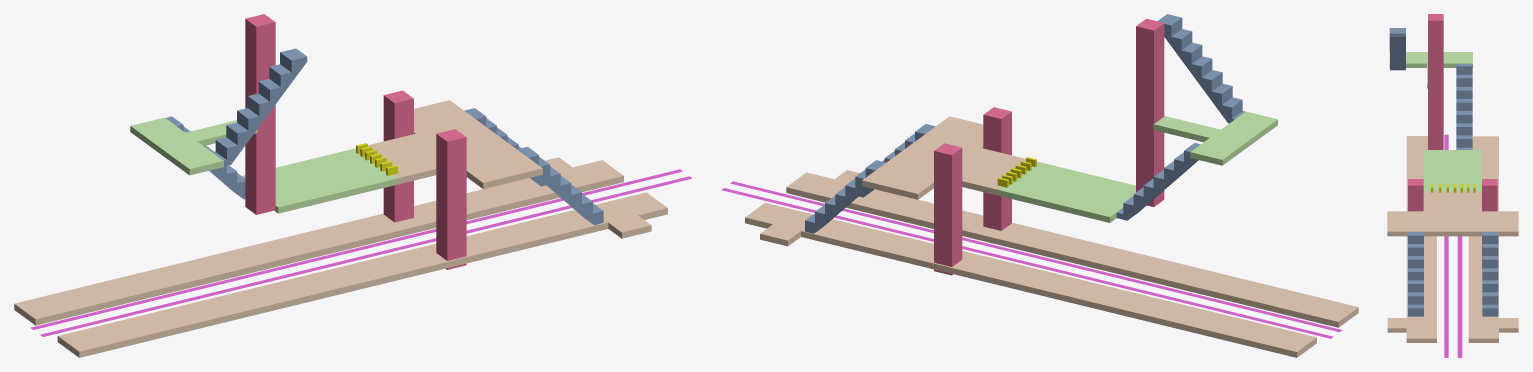
File: pinar-rey.glb
3 views of the same model, side by side, from view 1: azimuth 30°, elevation 25°; view 2: azimuth 150°, elevation 25°; view 3: azimuth 270°, elevation 25° (orthographic). The views are drawn at different scales.
Parts seen in each view (by area): view 1: suelo.001, suelo.003, suelo-dentro, ascensor derecho.002, suelo, ascensor derecho.001, Cube.010, suelo.002, ascensor derecho, Plane.002, Plane.001, Cube.008 (+3 smaller); view 2: suelo.003, suelo.001, suelo-dentro, suelo, ascensor derecho.002, ascensor derecho, Cube.010, suelo.002, ascensor derecho.001, Plane.001, Plane.002, Cube.007 (+2 smaller); view 3: suelo-dentro, suelo.003, suelo.001, suelo, ascensor derecho.002, Cube.007, Cube.009, Cube.008, suelo.002, Plane.002, Cube.010, Plane.001 (+2 smaller).
Part boxes in pixels (x1,y1,x2,y2): suelo.001: (57, 192, 667, 357); suelo.003: (14, 157, 623, 325); suelo-dentro: (368, 100, 542, 188); ascensor derecho.002: (245, 14, 275, 214); suelo: (242, 148, 397, 213); ascensor derecho.001: (436, 129, 466, 269); Cube.010: (212, 48, 307, 166); suelo.002: (130, 117, 223, 175); ascensor derecho: (383, 90, 413, 222); Plane.002: (30, 169, 682, 329); Plane.001: (40, 176, 692, 336); Cube.008: (517, 147, 603, 225); suelo.003: (745, 202, 1316, 357); suelo.001: (786, 170, 1358, 327); suelo-dentro: (862, 116, 1025, 199); suelo: (998, 161, 1135, 222); ascensor derecho.002: (1136, 18, 1164, 206); ascensor derecho: (934, 143, 962, 275); Cube.010: (1157, 14, 1244, 123); suelo.002: (1190, 111, 1277, 165); ascensor derecho.001: (983, 107, 1011, 230); Plane.001: (730, 181, 1342, 332); Plane.002: (721, 188, 1333, 338); Cube.007: (1116, 143, 1200, 220); suelo-dentro: (1387, 191, 1518, 236); suelo.003: (1468, 136, 1518, 342); suelo.001: (1387, 136, 1436, 342); suelo: (1424, 150, 1482, 190); ascensor derecho.002: (1428, 14, 1443, 149); Cube.007: (1456, 64, 1472, 149); Cube.009: (1482, 232, 1498, 316); Cube.008: (1408, 232, 1423, 316); suelo.002: (1389, 52, 1472, 67); Plane.002: (1457, 236, 1462, 357); Cube.010: (1389, 28, 1405, 70); Plane.001: (1444, 134, 1448, 357).
Size of the model in its own units: 10.89 by 4.42 by 2.71.
